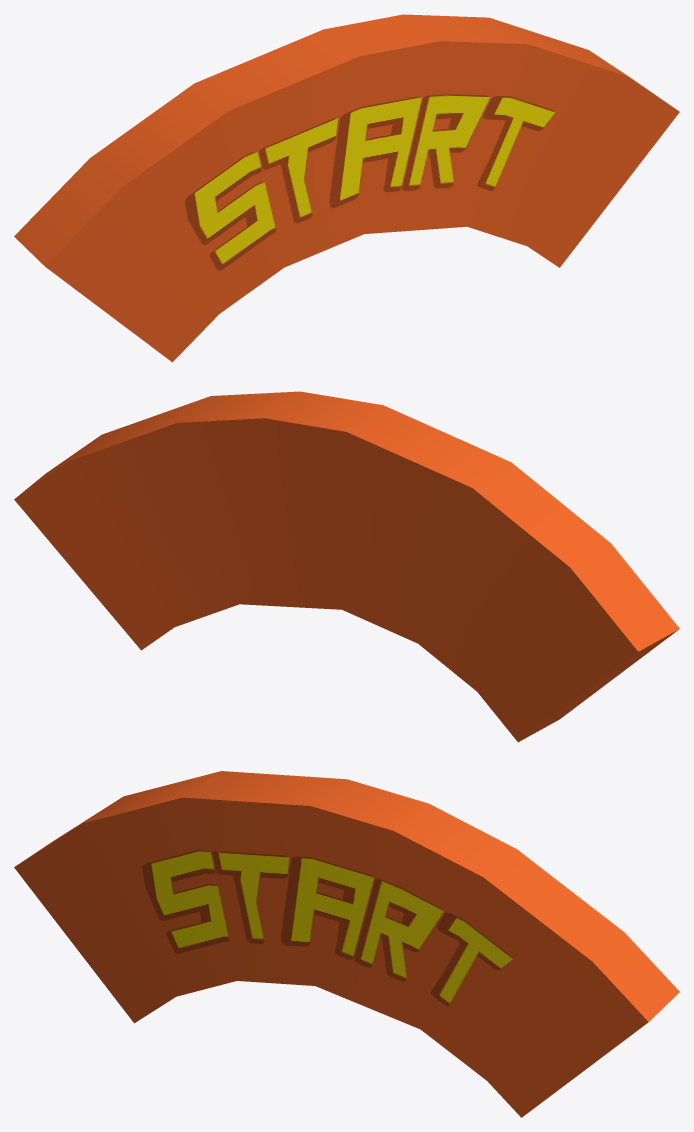
Rendered from start board.FBX.
3 renders of one model, top to bottom at view 1: azimuth 30°, elevation 25°; view 2: azimuth 150°, elevation 25°; view 3: azimuth 330°, elevation 25°, orthographic.
Parts seen in each view (by area): view 1: Box001; view 2: Box001; view 3: Box001.
Boxes of the visible parts, left/top/right/bottom form: Box001: left=14, top=14, right=679, bottom=362; Box001: left=14, top=391, right=679, bottom=742; Box001: left=14, top=771, right=679, bottom=1117.
Size of the model in its own units: 36.26 by 14.51 by 4.49.
